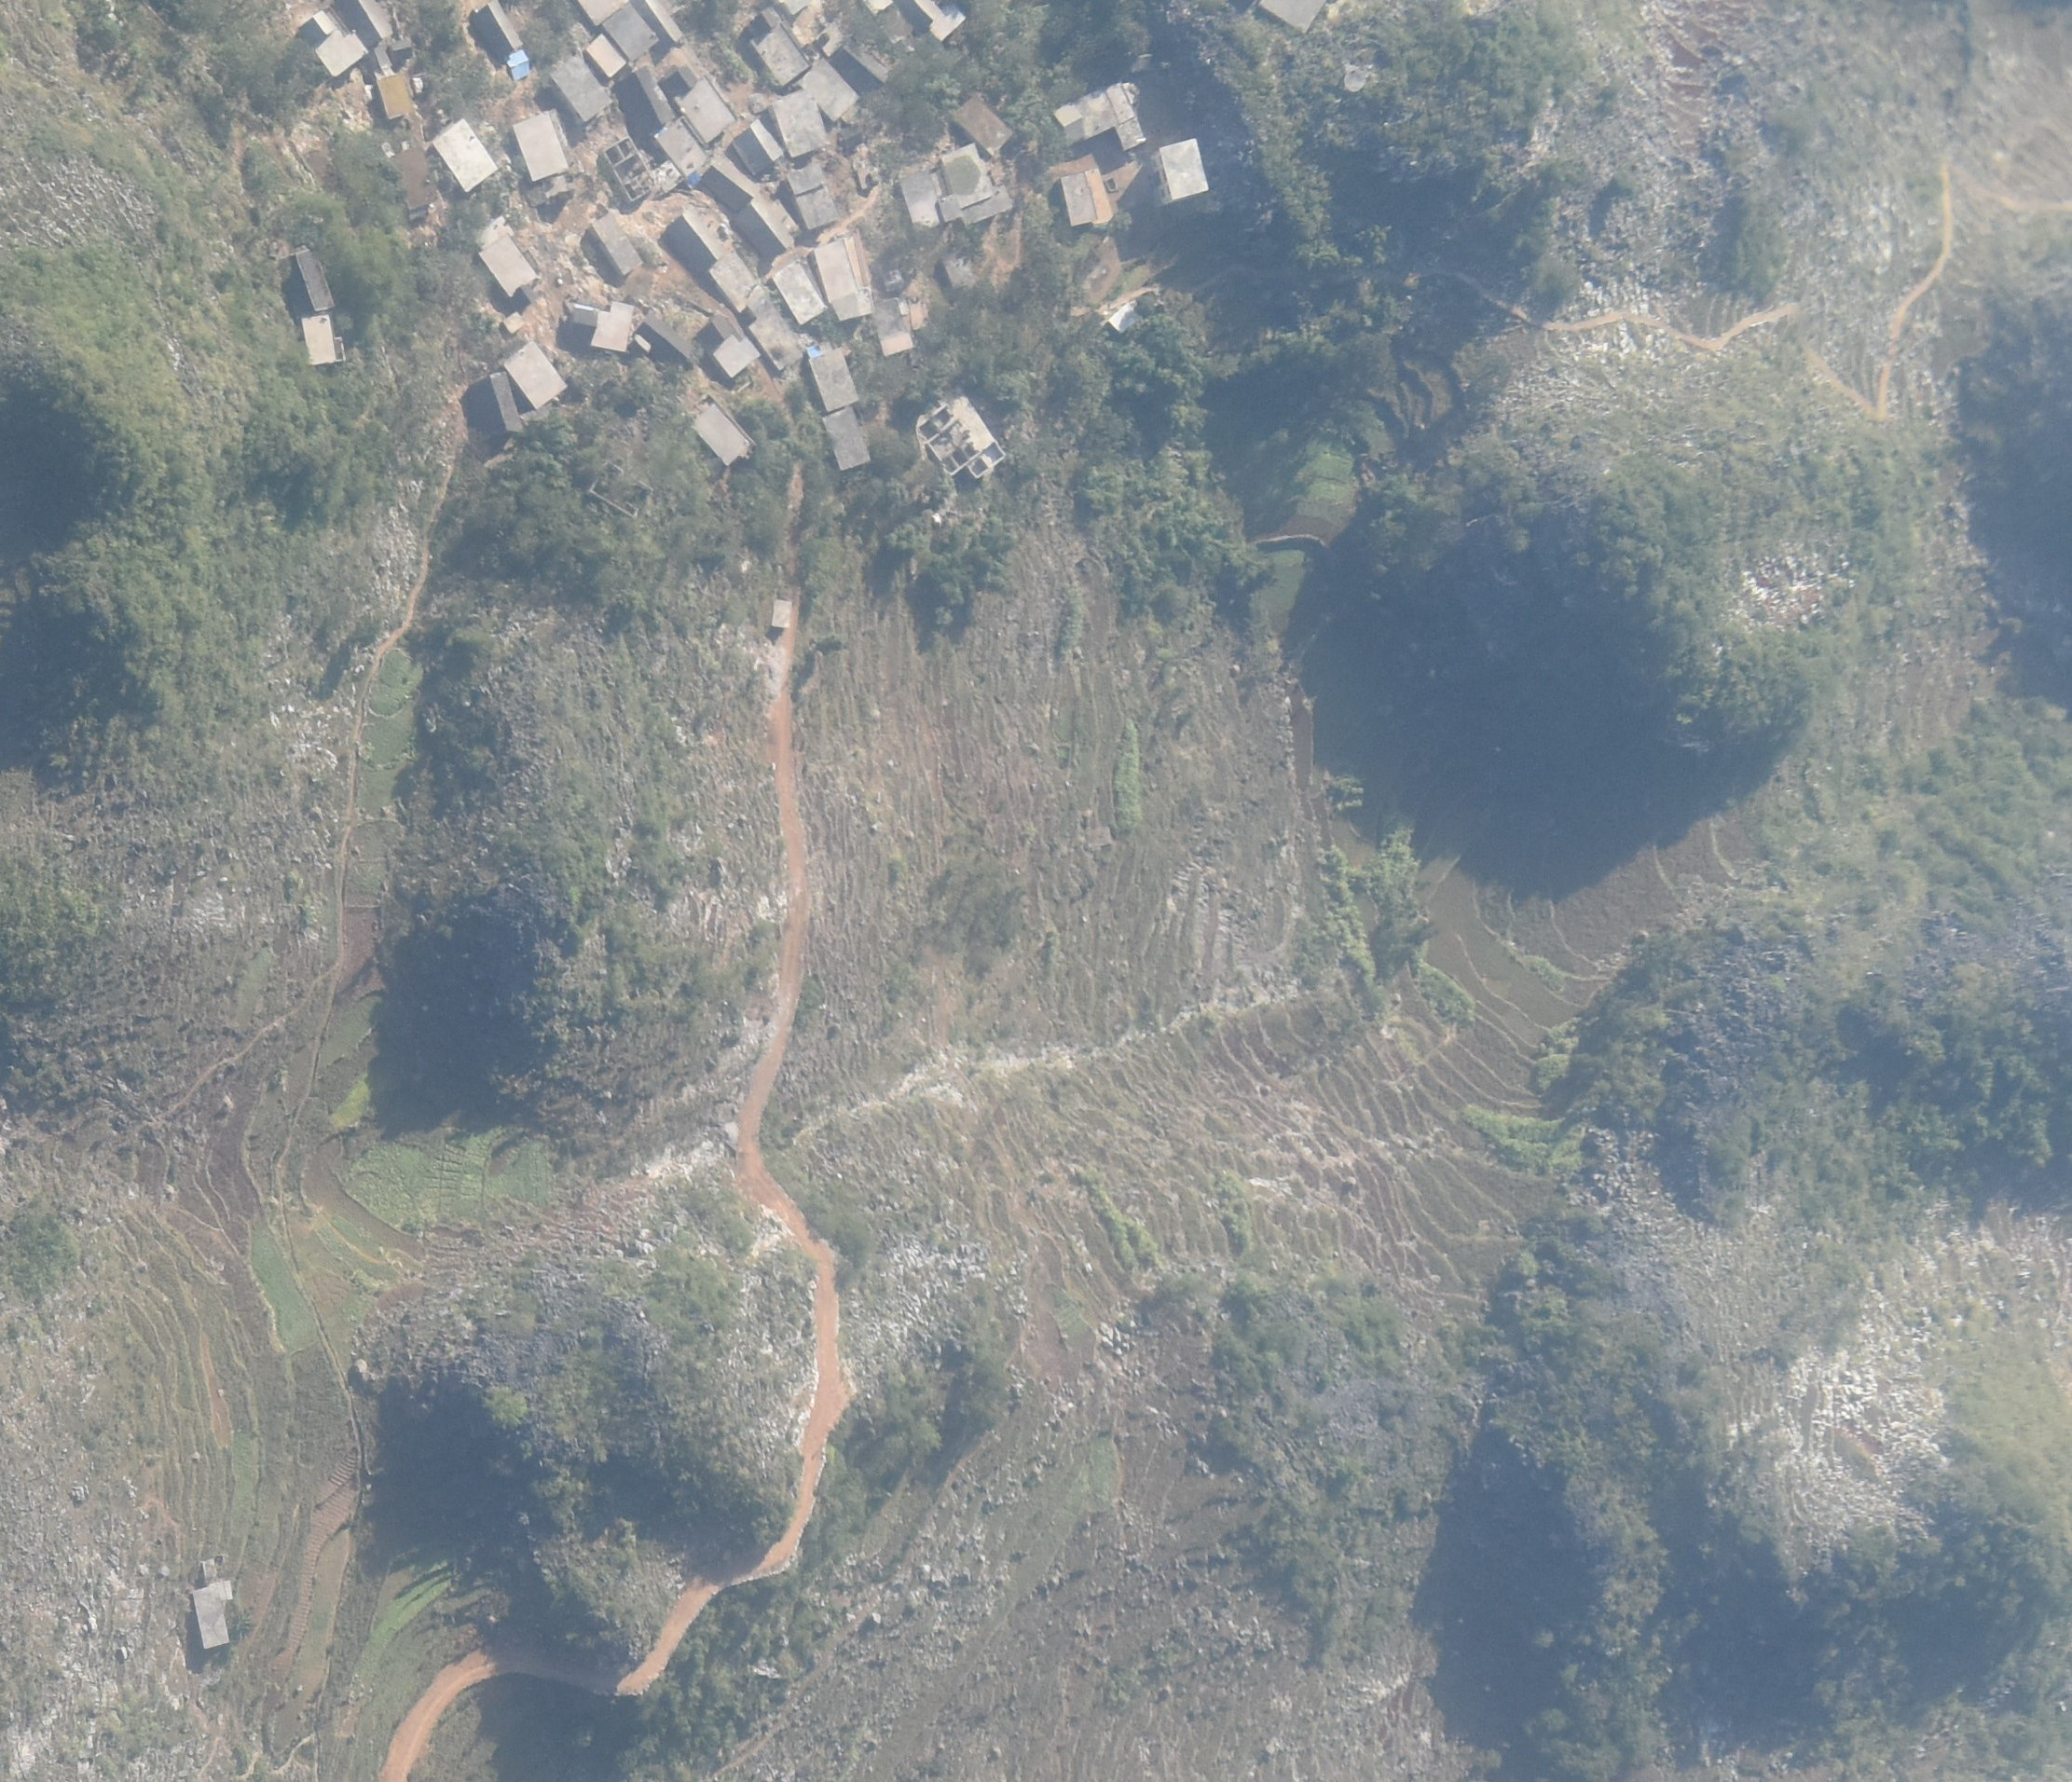building: (668, 208, 802, 368), (899, 143, 1015, 229), (918, 388, 1004, 478), (1052, 85, 1145, 150), (666, 65, 740, 145), (476, 215, 539, 307), (812, 236, 872, 323), (747, 7, 810, 88), (433, 118, 499, 190), (300, 9, 366, 76), (504, 338, 567, 407), (550, 55, 613, 122), (798, 56, 860, 125), (192, 1562, 238, 1653), (513, 109, 569, 182), (735, 196, 796, 261), (618, 69, 675, 139), (772, 88, 828, 159), (784, 162, 840, 231), (655, 118, 707, 189), (703, 314, 759, 377), (282, 249, 333, 317), (694, 405, 752, 465), (599, 5, 661, 62), (953, 99, 1015, 155), (772, 261, 826, 324), (569, 300, 634, 353), (389, 145, 440, 212), (604, 136, 655, 203), (368, 46, 414, 120), (809, 347, 860, 412), (470, 370, 522, 435), (1159, 134, 1210, 199), (699, 153, 758, 210), (592, 213, 641, 277), (1061, 167, 1112, 227), (823, 407, 870, 469), (474, 2, 523, 58), (636, 314, 692, 361), (735, 118, 782, 173), (300, 314, 347, 365), (874, 298, 913, 358), (636, 2, 684, 48), (920, 2, 967, 42), (585, 33, 625, 79), (943, 249, 973, 287), (1108, 301, 1140, 331), (773, 596, 793, 627), (881, 268, 904, 294), (500, 312, 525, 331), (389, 41, 414, 60)
prefabricated-house: (506, 49, 529, 81)
well: (1343, 69, 1367, 92)
